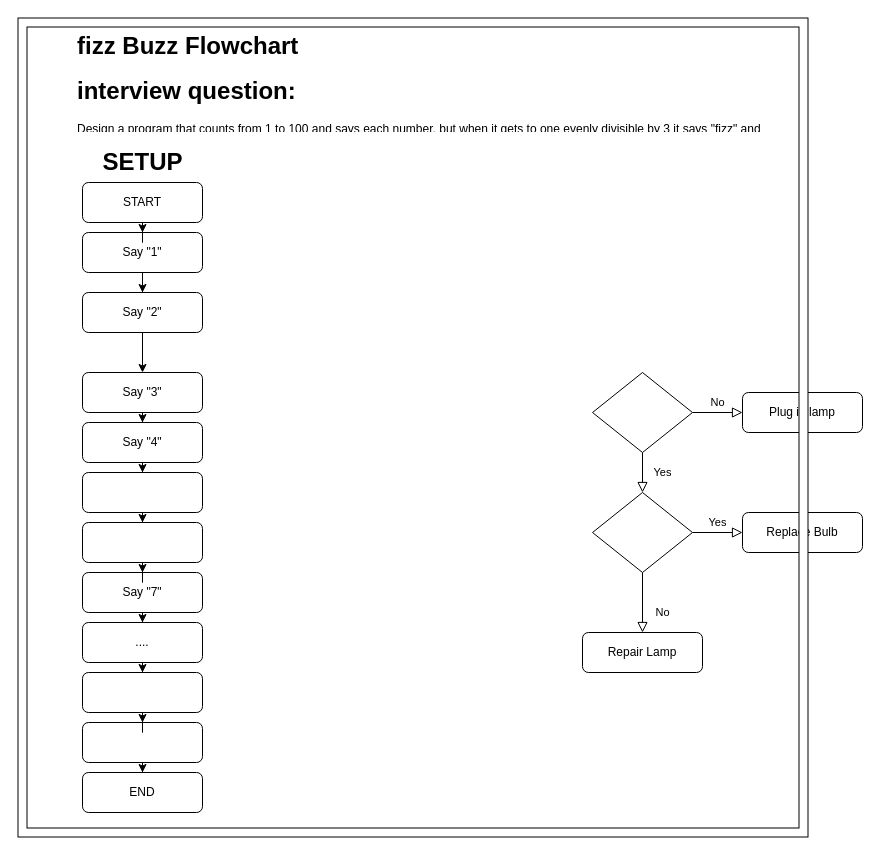
This 880x855 diagram has some shape labels left out. Here are the shapes that lost their labels. From the top down, the centre of each, then its label:
point 642,412: Lamp plugged in?
point 142,492: Say "5"
point 142,542: Say "6"
point 642,532: Bulb burned out?
point 142,692: Say "99"
point 142,742: Say "100"
